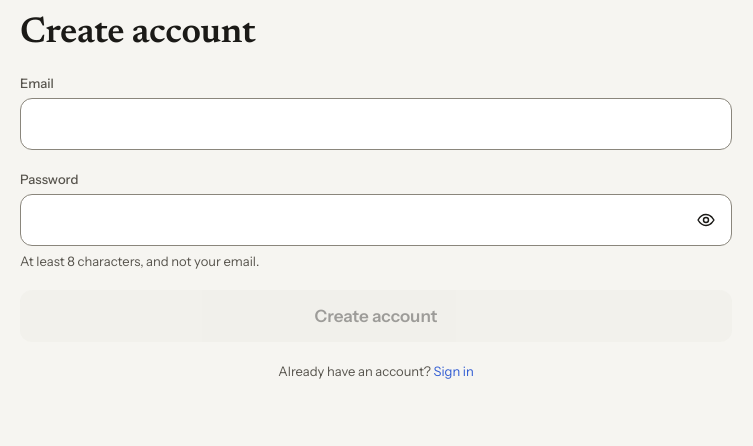
Test: Create account (AA-1) › A11Y-62: shows the server's field error with a Sign in link and focuses the field
Type "example@gmail.com" into the field labelled "Email".
click(376, 124); type("example@gmail.com")  # box [20,98,732,150]
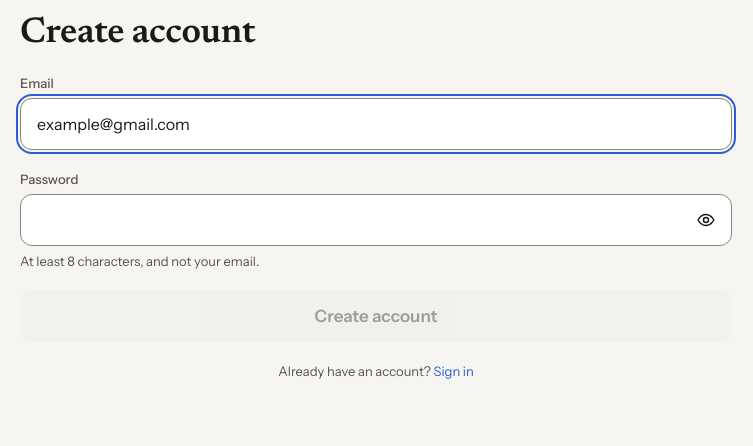
Type "quiet river 42" into the password field labelled "Password".
click(376, 220); type("quiet river 42")  # box [20,194,732,246]
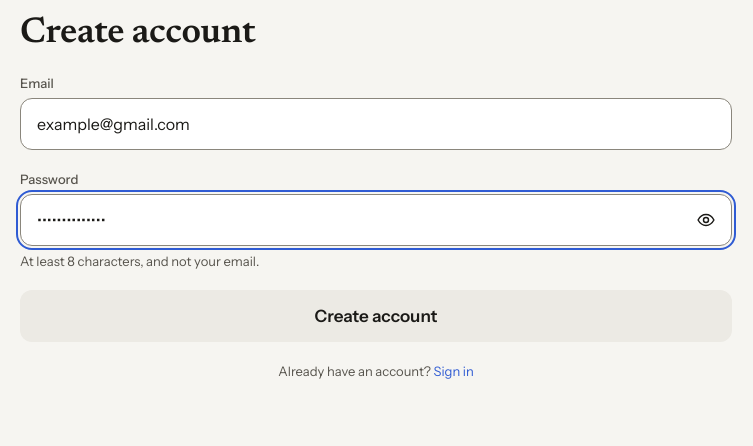
Click the button "Create account".
click(376, 316)  # box [20,290,732,342]
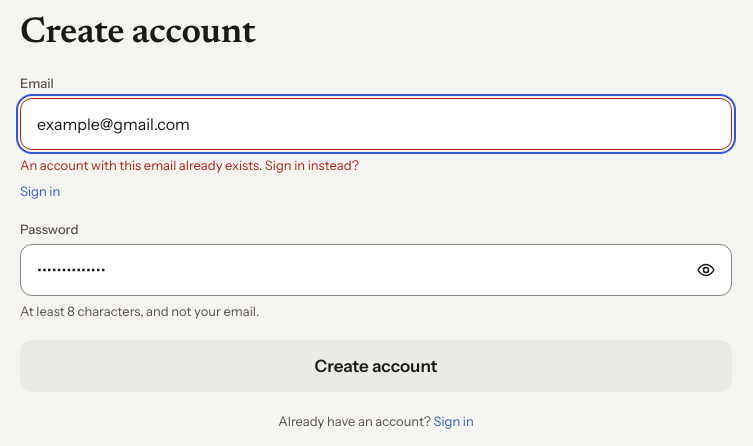
Expected: the text "An account with this email already exists. Sign in instead?" is shown, [20,157,359,173]
